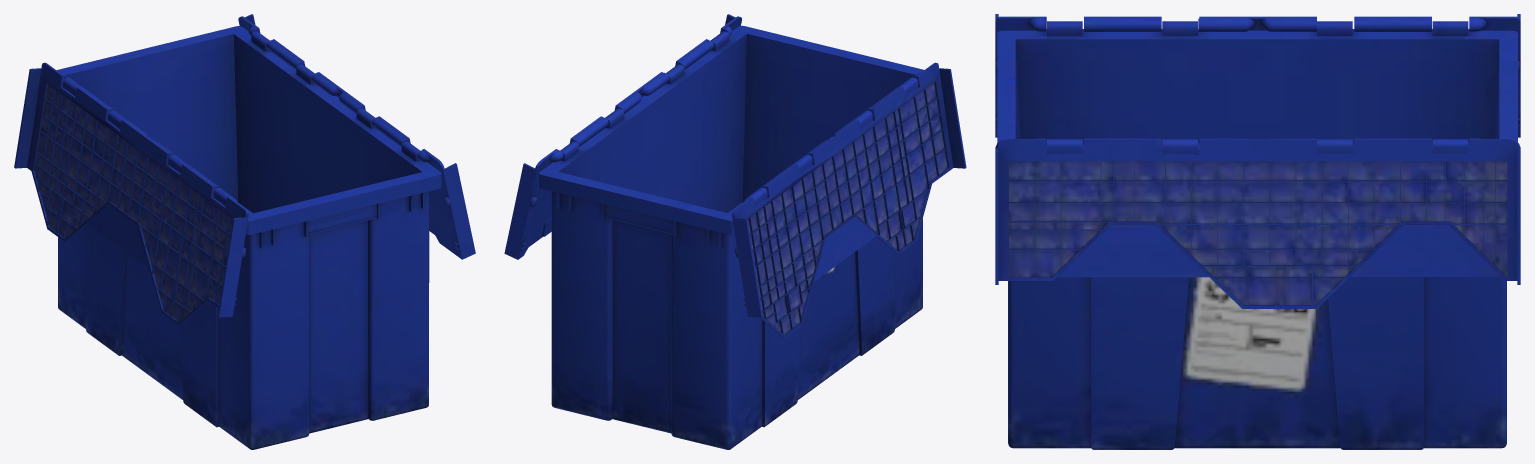
File: industrial_pastic_container.glb
The picture shows the model from 3 angles, left to right: view 1: azimuth 30°, elevation 25°; view 2: azimuth 150°, elevation 25°; view 3: azimuth 270°, elevation 25°; orthographic projection. The views are drawn at different scales.
Visible parts, largest first — view 1: industrial_pastic_container; view 2: industrial_pastic_container; view 3: industrial_pastic_container.
Part boxes in pixels (left/top/right/bottom): industrial_pastic_container: left=14, top=14, right=475, bottom=449; industrial_pastic_container: left=504, top=14, right=966, bottom=449; industrial_pastic_container: left=995, top=14, right=1520, bottom=449.
Size of the model in its own units: 0.4572 by 0.4189 by 0.6315.
Materials: 1 (1 with a texture image).
